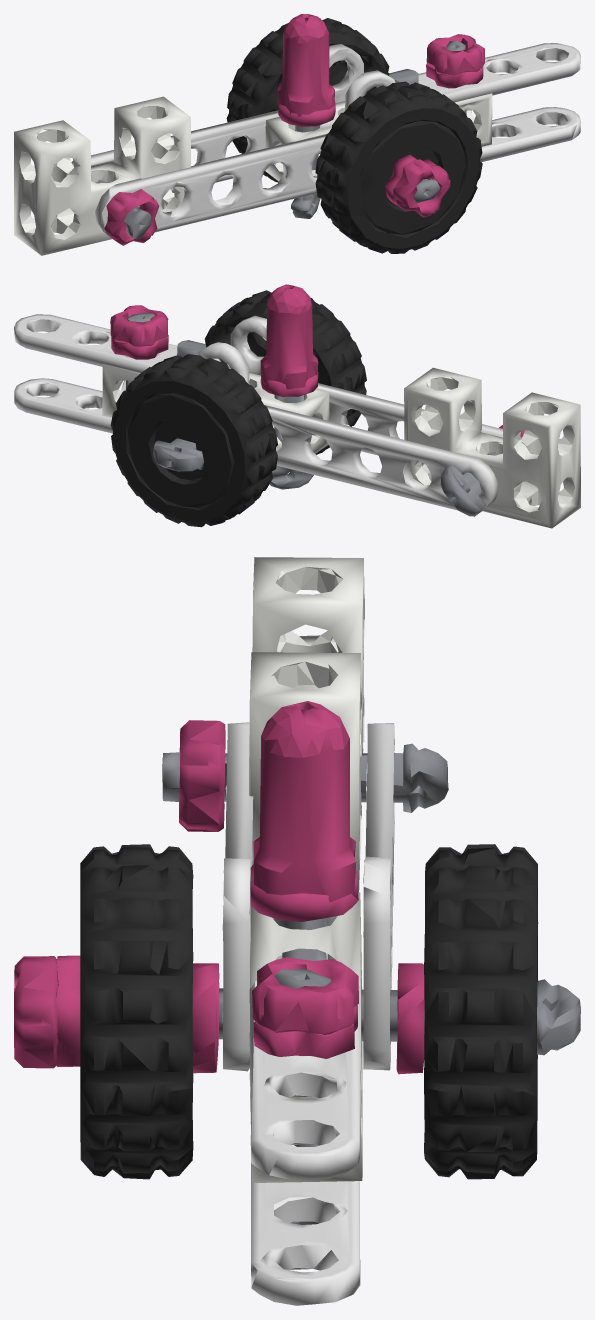
Rendered from UMilestone4.fbx.
The picture shows the model from 3 angles, top to bottom: view 1: azimuth 30°, elevation 25°; view 2: azimuth 150°, elevation 25°; view 3: azimuth 270°, elevation 25°; orthographic projection. The views are drawn at different scales.
Visible parts, largest first — view 1: Nut PH CL BU01.00x5mm - SPN-NUT-0018 (stemfie.org).001; view 2: Nut PH CL BU01.00x5mm - SPN-NUT-0018 (stemfie.org).001; view 3: Nut PH CL BU01.00x5mm - SPN-NUT-0018 (stemfie.org).001.
Part boxes in pixels (left/top/right/bottom): Nut PH CL BU01.00x5mm - SPN-NUT-0018 (stemfie.org).001: left=14, top=14, right=580, bottom=255; Nut PH CL BU01.00x5mm - SPN-NUT-0018 (stemfie.org).001: left=14, top=284, right=580, bottom=528; Nut PH CL BU01.00x5mm - SPN-NUT-0018 (stemfie.org).001: left=14, top=557, right=580, bottom=1305.
Size of the model in its own units: 13777 by 5048 by 6322.
